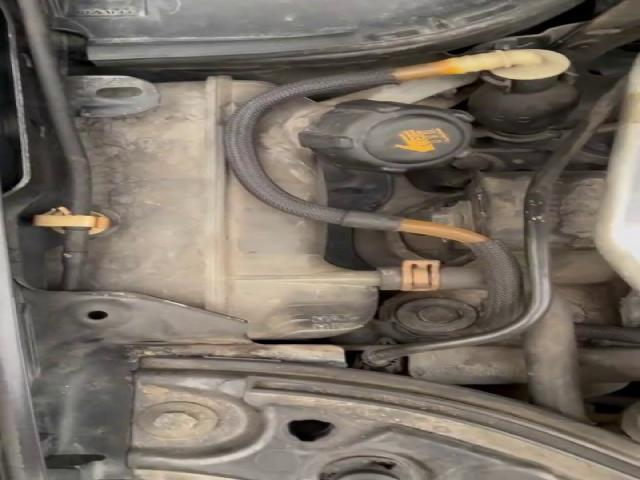antifreeze_tank: (80, 77, 375, 338), (258, 98, 473, 203)
